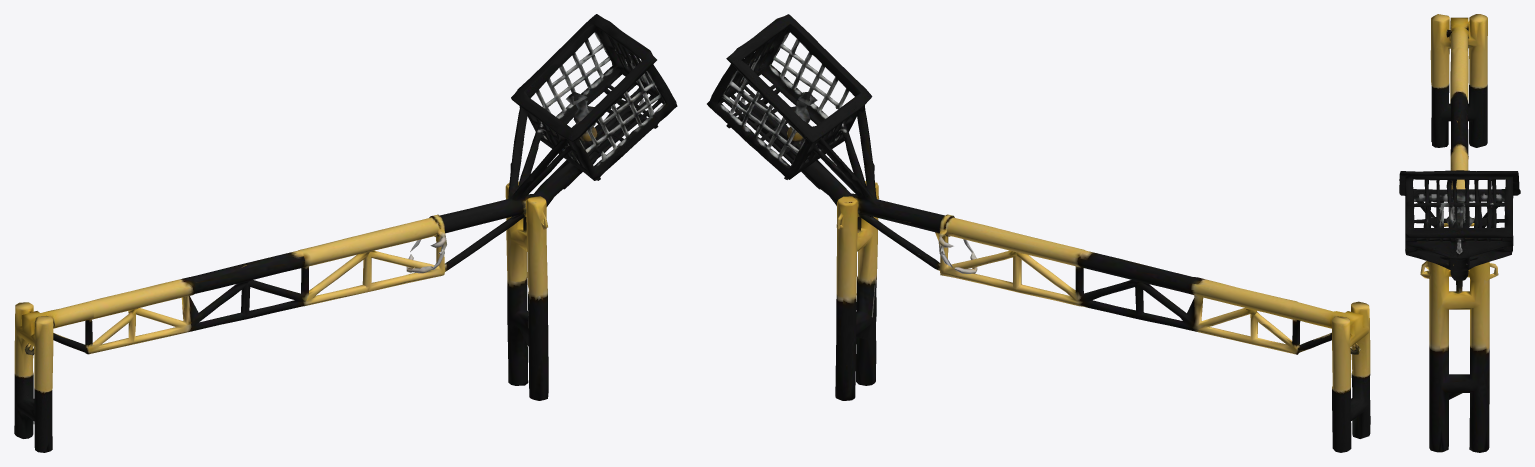
Rendered from portal_security.glb.
3 views of the same model, side by side, from view 1: azimuth 30°, elevation 25°; view 2: azimuth 150°, elevation 25°; view 3: azimuth 270°, elevation 25° (orthographic).
Parts seen in each view (by area): view 1: tripo_node_8666bdef-1560-4069-abcf-ac72795536e7; view 2: tripo_node_8666bdef-1560-4069-abcf-ac72795536e7; view 3: tripo_node_8666bdef-1560-4069-abcf-ac72795536e7.
Part boxes in pixels (x1,y1,x2,y2): tripo_node_8666bdef-1560-4069-abcf-ac72795536e7: [14, 14, 677, 452]; tripo_node_8666bdef-1560-4069-abcf-ac72795536e7: [707, 14, 1370, 452]; tripo_node_8666bdef-1560-4069-abcf-ac72795536e7: [1399, 14, 1520, 452].
Size of the model in its own units: 1 by 0.5045 by 0.1711.
1 material, 1 textured.
